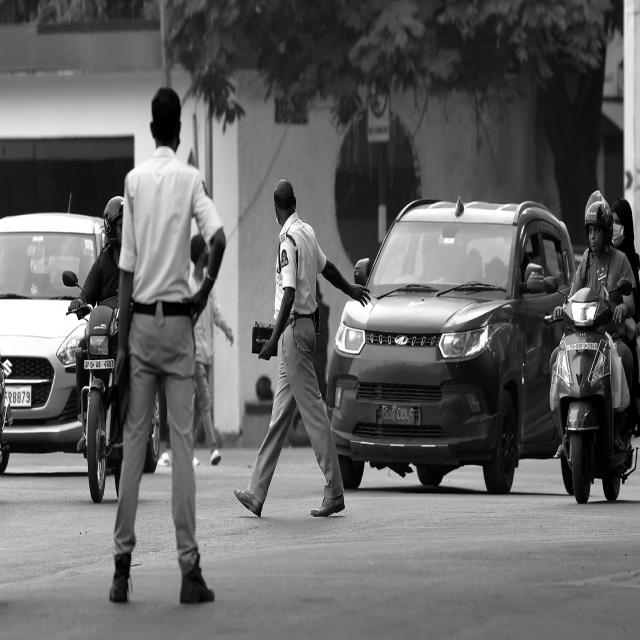bike: (556, 288, 634, 503), (82, 298, 122, 502), (144, 397, 158, 472)
car: (328, 198, 575, 493), (0, 212, 102, 452)
person: (109, 86, 226, 605), (236, 180, 369, 515), (572, 190, 636, 341), (193, 288, 234, 462), (188, 235, 207, 295), (621, 341, 633, 375)
